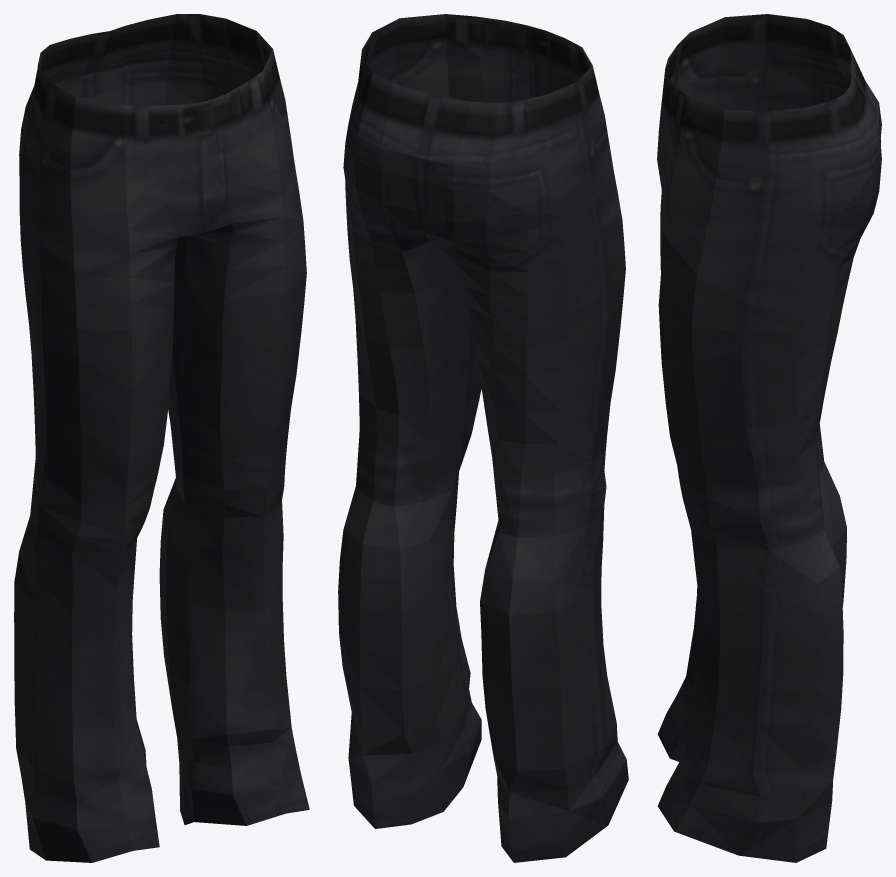
Rendered from boot_jeans2.glb.
3 renders of one model, left to right at view 1: azimuth 30°, elevation 25°; view 2: azimuth 150°, elevation 25°; view 3: azimuth 270°, elevation 25°, orthographic. The views are drawn at different scales.
Parts seen in each view (by area): view 1: Boot Jeans; view 2: Boot Jeans; view 3: Boot Jeans.
Part boxes in pixels (<box>): Boot Jeans: <box>14,14,309,862</box>; Boot Jeans: <box>338,14,628,862</box>; Boot Jeans: <box>657,14,881,862</box>.
Bounding box in the file's own units: 0.3678 × 1.08 × 0.2938.
Materials: 1 (1 with a texture image).
